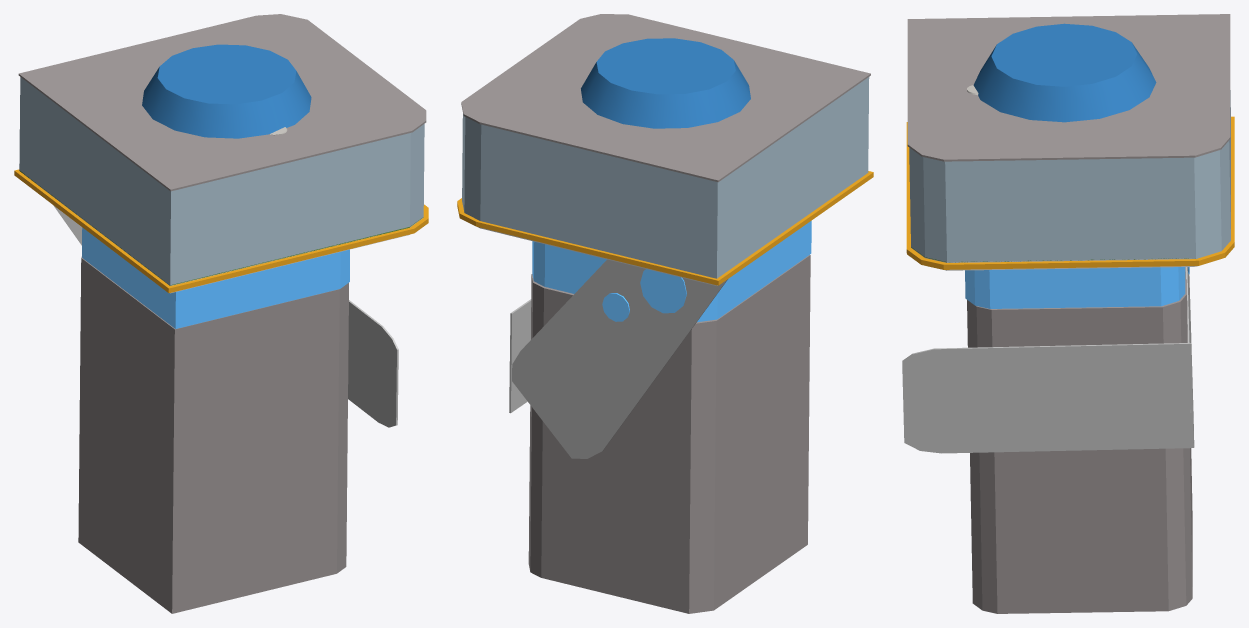
File: TreeParent.fbx
3 renders of one model, left to right at view 1: azimuth 30°, elevation 25°; view 2: azimuth 150°, elevation 25°; view 3: azimuth 270°, elevation 25°, orthographic. The views are drawn at different scales.
Parts seen in each view (by area): view 1: Cube__4__1, Cube, Cube__7_, Cylinder__4_, Cube__3_, Cube__5_, Cube__5__1; view 2: Cube__4__1, Cube, Cube__7_, Cube__4_, Cylinder__4_, Cube__3_, Cube__5__1, Cylinder__7__1, Cube__5_, Cylinder__8_; view 3: Cube__4__1, Cube, Cube__7_, Cube__5_, Cylinder__4_, Cube__3_, Cube__5__1, Cube__1_.
Boxes of the visible parts, x1,y1,x2,y2 form: Cube__4__1: (78,256,348,613); Cube: (19,77,424,285); Cube__7_: (18,14,426,191); Cylinder__4_: (142,44,311,138); Cube__3_: (82,227,349,328); Cube__5_: (348,300,398,427); Cube__5__1: (14,169,428,292); Cube__4__1: (528,255,810,613); Cube: (462,77,869,278); Cube__7_: (461,14,870,182); Cube__4_: (512,259,727,458); Cylinder__4_: (581,38,750,128); Cube__3_: (532,221,811,322); Cube__5__1: (457,171,873,285); Cylinder__7__1: (640,269,686,313); Cube__5_: (509,299,531,413); Cylinder__8_: (602,293,629,321); Cube__4__1: (967,267,1192,613); Cube: (909,90,1230,262); Cube__7_: (907,14,1230,161); Cube__5_: (902,343,1193,453); Cylinder__4_: (973,23,1156,122); Cube__3_: (965,267,1185,308); Cube__5__1: (906,116,1234,269); Cube__1_: (911,247,1197,270).
Size of the model in its own units: 10181 by 17036 by 9976.
Materials: 10 (2 with a texture image).
